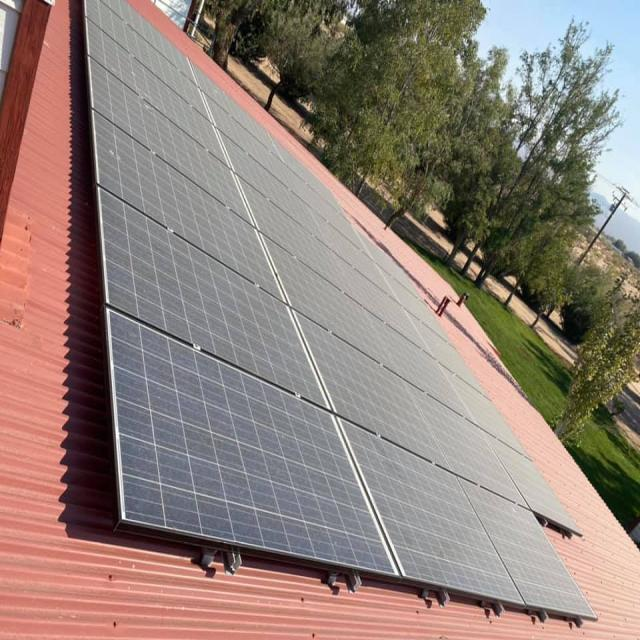dust-solar-panel: (84, 0, 598, 621)
